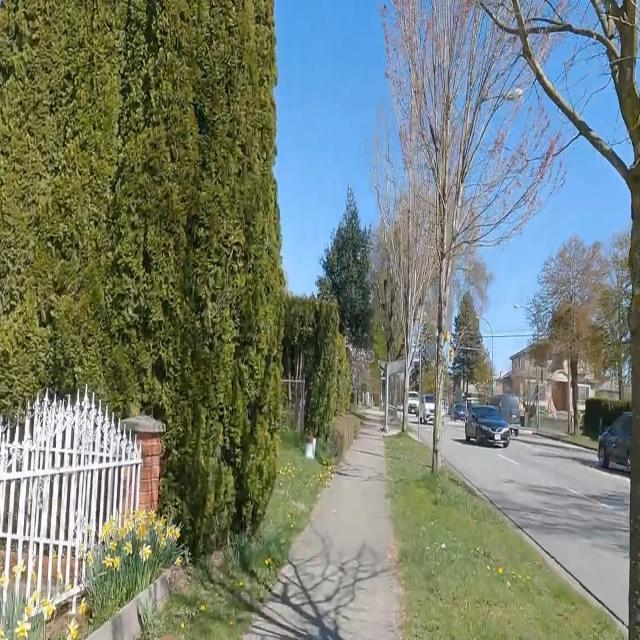Automobile: (598, 412, 631, 471), (465, 404, 510, 447), (491, 394, 522, 435), (418, 395, 434, 423)
Obstacle: (0, 0, 346, 557), (386, 436, 622, 639), (398, 0, 476, 471), (157, 433, 331, 639), (0, 389, 141, 606), (86, 571, 169, 639), (330, 413, 365, 463), (383, 362, 389, 431)
Road: (445, 423, 628, 623)
Sidewalk: (244, 406, 400, 640)
